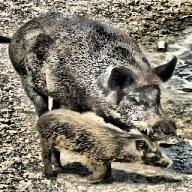boar: (4, 10, 180, 149), (35, 107, 172, 184)
